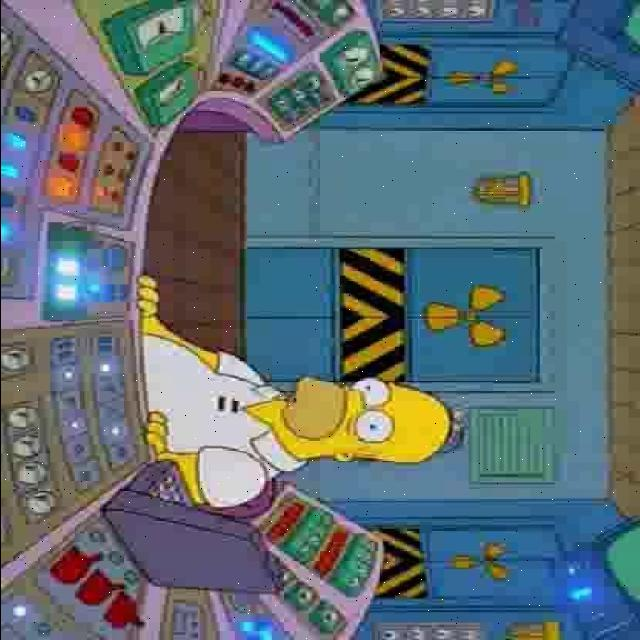Homer Simpson: (268, 375, 448, 467)
